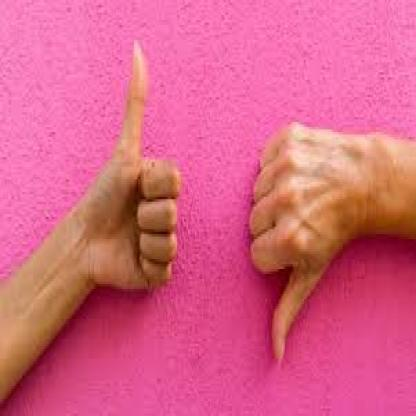thumb_down: (248, 112, 355, 366)
thumb_up: (86, 36, 183, 294)
